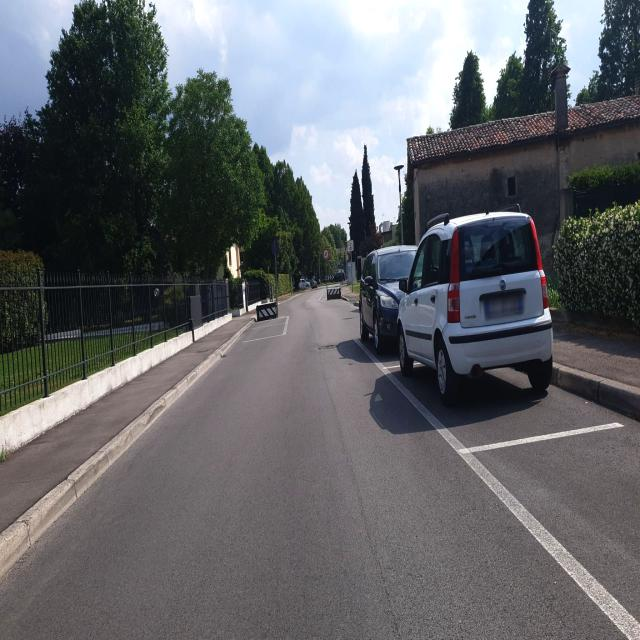car: (397, 208, 554, 406), (360, 243, 418, 354), (255, 284, 279, 321), (326, 273, 342, 300), (298, 275, 308, 292), (311, 274, 318, 288)
